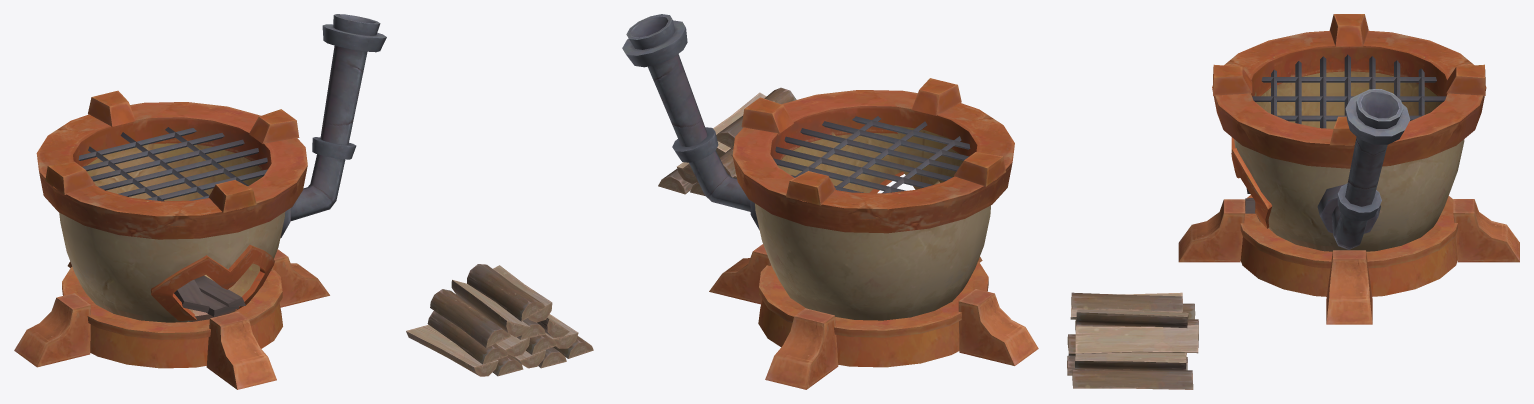
Rendered from Homeworld_Exterior_Md_Thing_Prop_KleeOven_01_Lod0.fbx.
3 views of the same model, side by side, from view 1: azimuth 30°, elevation 25°; view 2: azimuth 150°, elevation 25°; view 3: azimuth 270°, elevation 25° (orthographic). The views are drawn at different scales.
Parts seen in each view (by area): view 1: Area_Common_Prop_Comp_KeLiDao_Oven_01_Lod0; view 2: Area_Common_Prop_Comp_KeLiDao_Oven_01_Lod0; view 3: Area_Common_Prop_Comp_KeLiDao_Oven_01_Lod0.
Boxes of the visible parts, x1,y1,x2,y2 form: Area_Common_Prop_Comp_KeLiDao_Oven_01_Lod0: (14, 14, 593, 389); Area_Common_Prop_Comp_KeLiDao_Oven_01_Lod0: (622, 14, 1038, 389); Area_Common_Prop_Comp_KeLiDao_Oven_01_Lod0: (1067, 14, 1519, 389).
Bounding box in the file's own units: 3.05 × 1.7 × 2.75.
